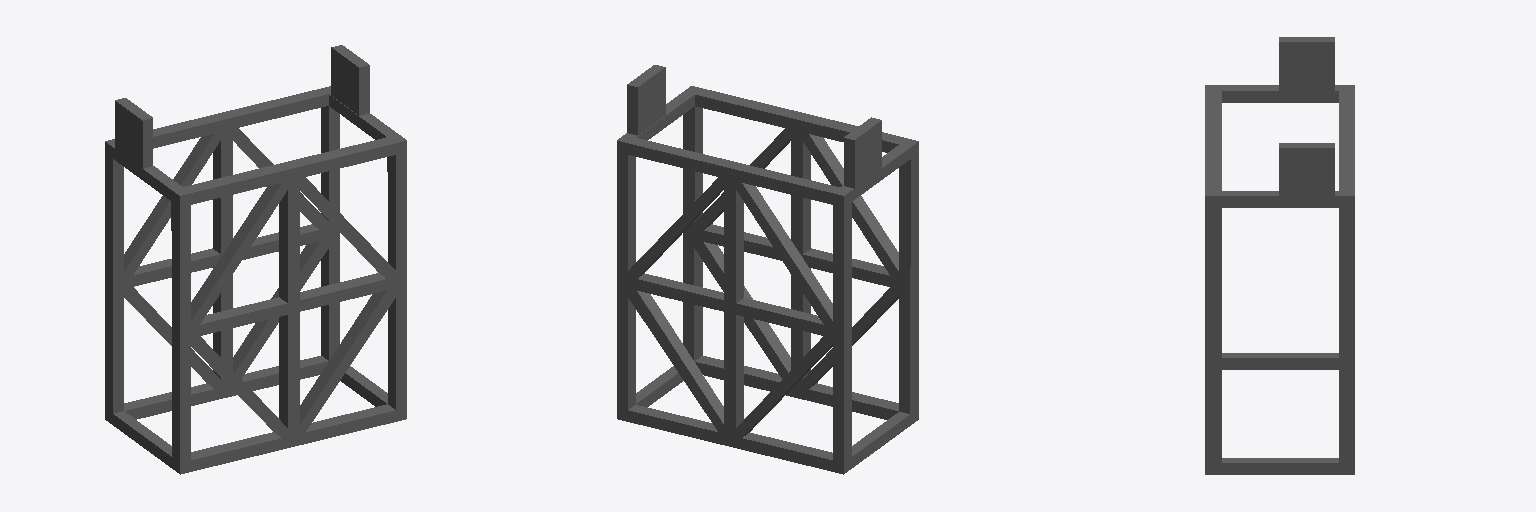
Rendered from torso.obj.
The picture shows the model from 3 angles: view 1: azimuth 30°, elevation 25°; view 2: azimuth 150°, elevation 25°; view 3: azimuth 270°, elevation 25°; orthographic projection.
Size of the model in its own units: 1.96 by 2.68 by 1.12.